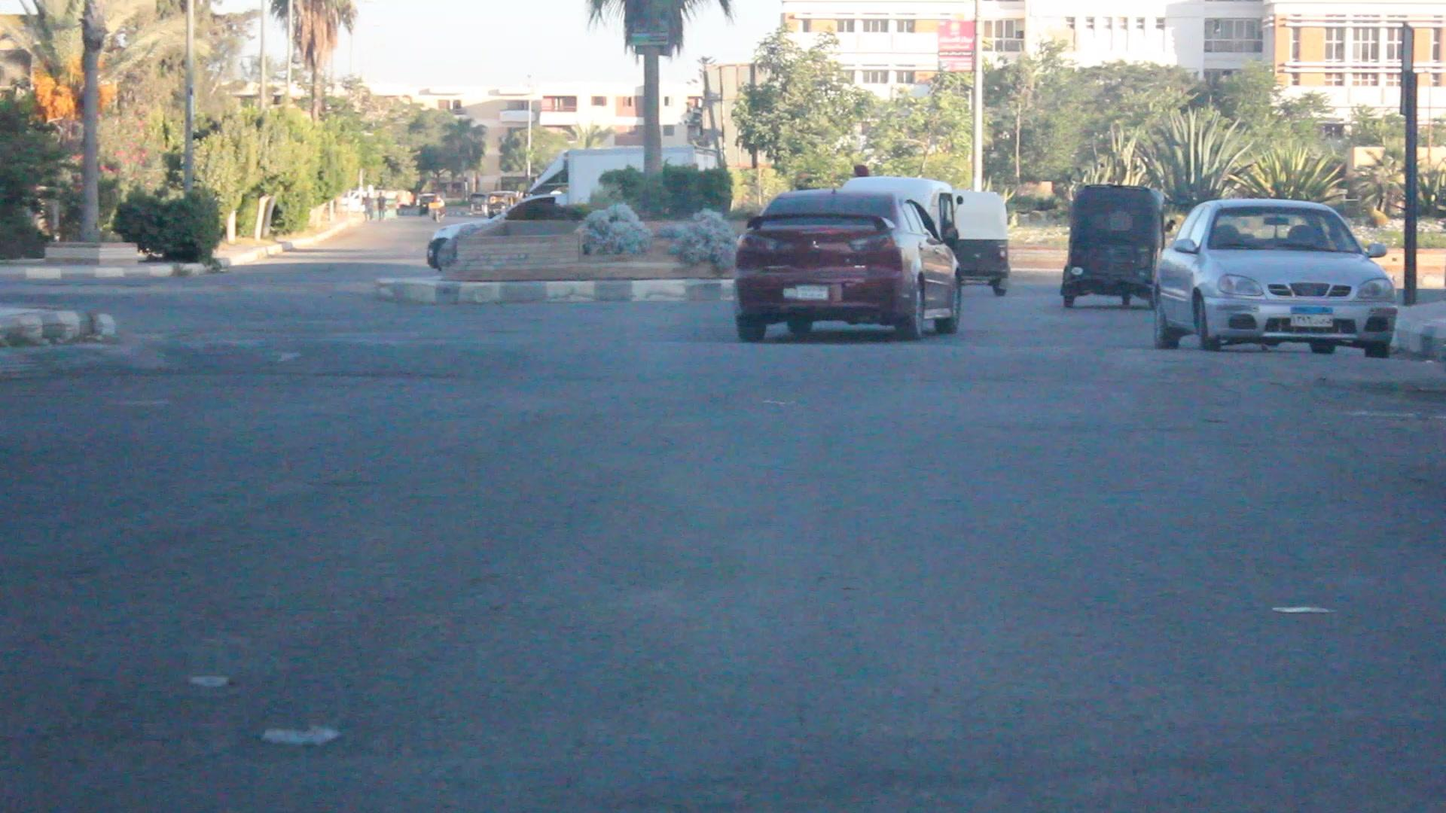Bump: (11, 327, 1446, 418)
